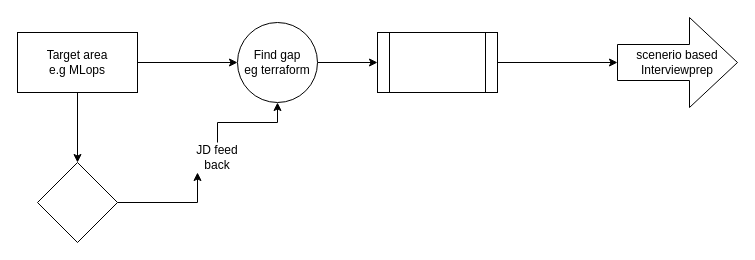
This 755x260 diagram has some shape labels left out. Here are the shapes that lost their labels. From the top down, the centre of each, then its label:
(437,62): Build Project
(77,202): Apply
